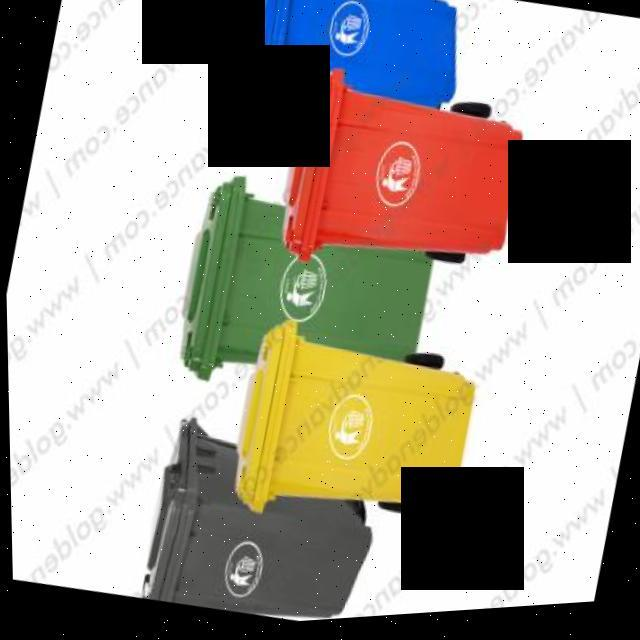bin: (157, 156, 449, 432), (210, 300, 493, 566), (263, 54, 540, 315), (126, 395, 395, 634), (218, 0, 477, 191)
